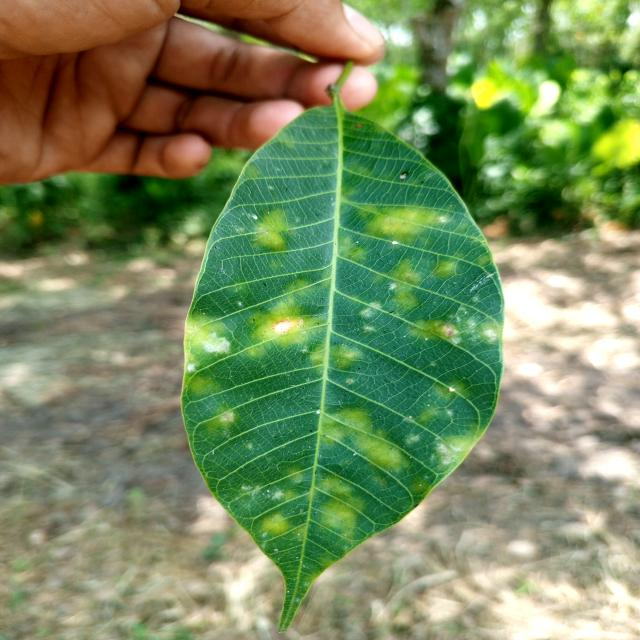Leaf-Blight: (273, 320, 293, 333)
